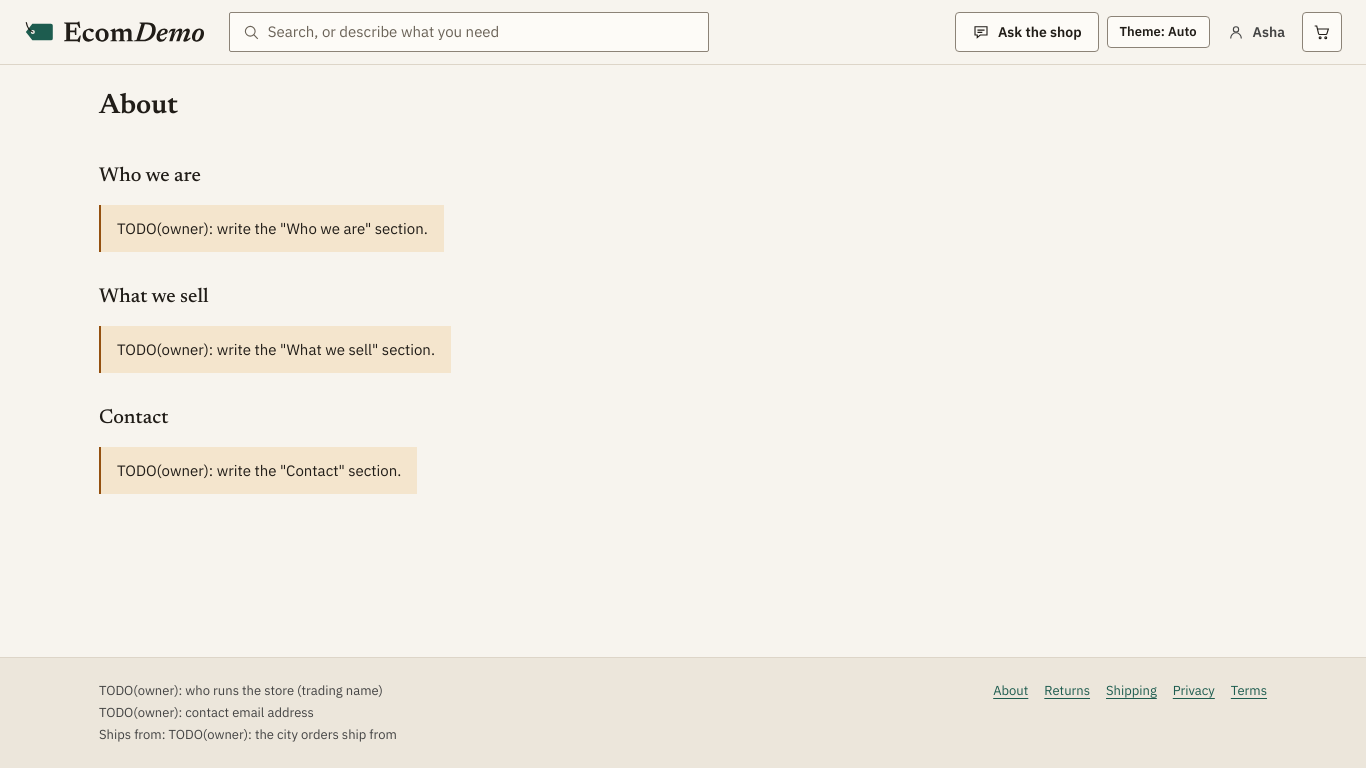
Scenario: the account menu › closes when the button is pressed again
expect the heading "About" is shown: met, box [99,89,178,123]
Click the button with aria-label "Account: Asha": (1256, 32) [1218,12,1294,52]
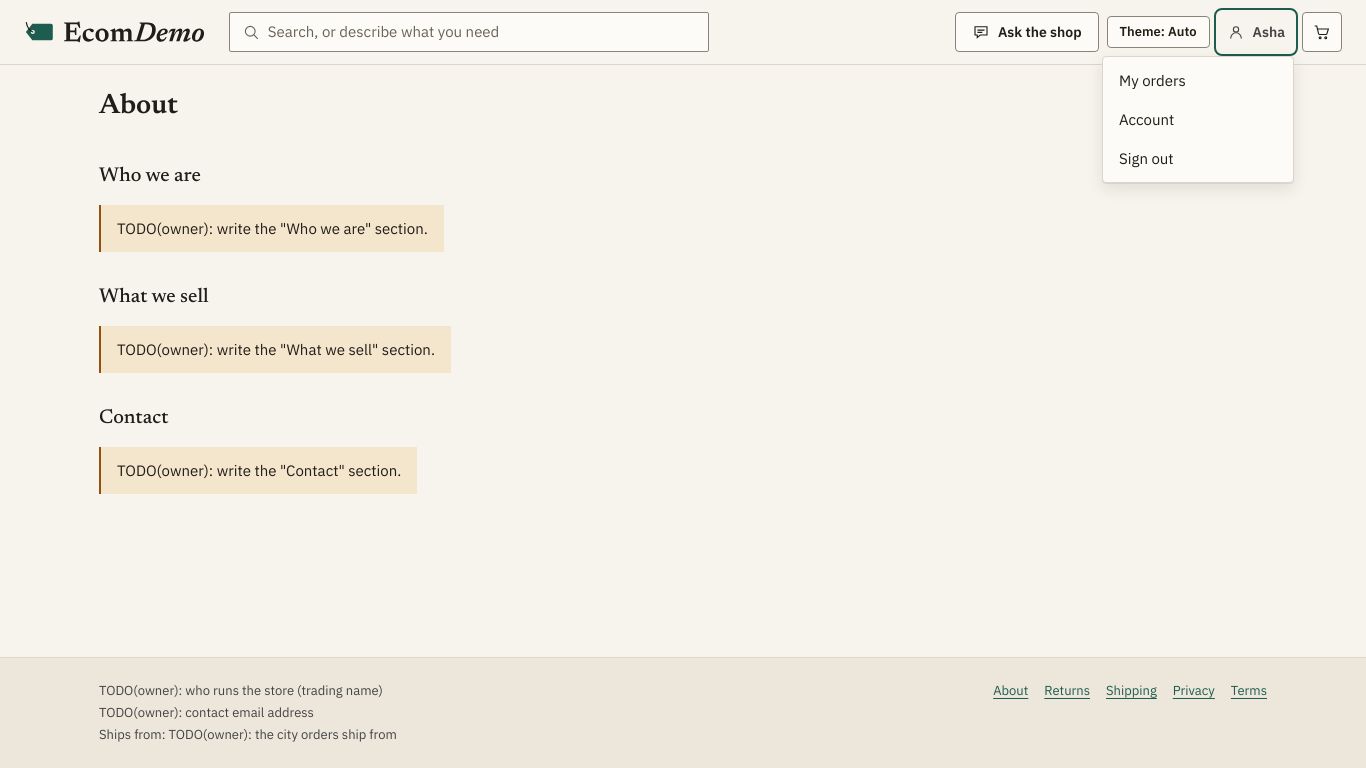
Click the button with aria-label "Account: Asha": (1256, 32) [1218,12,1294,52]
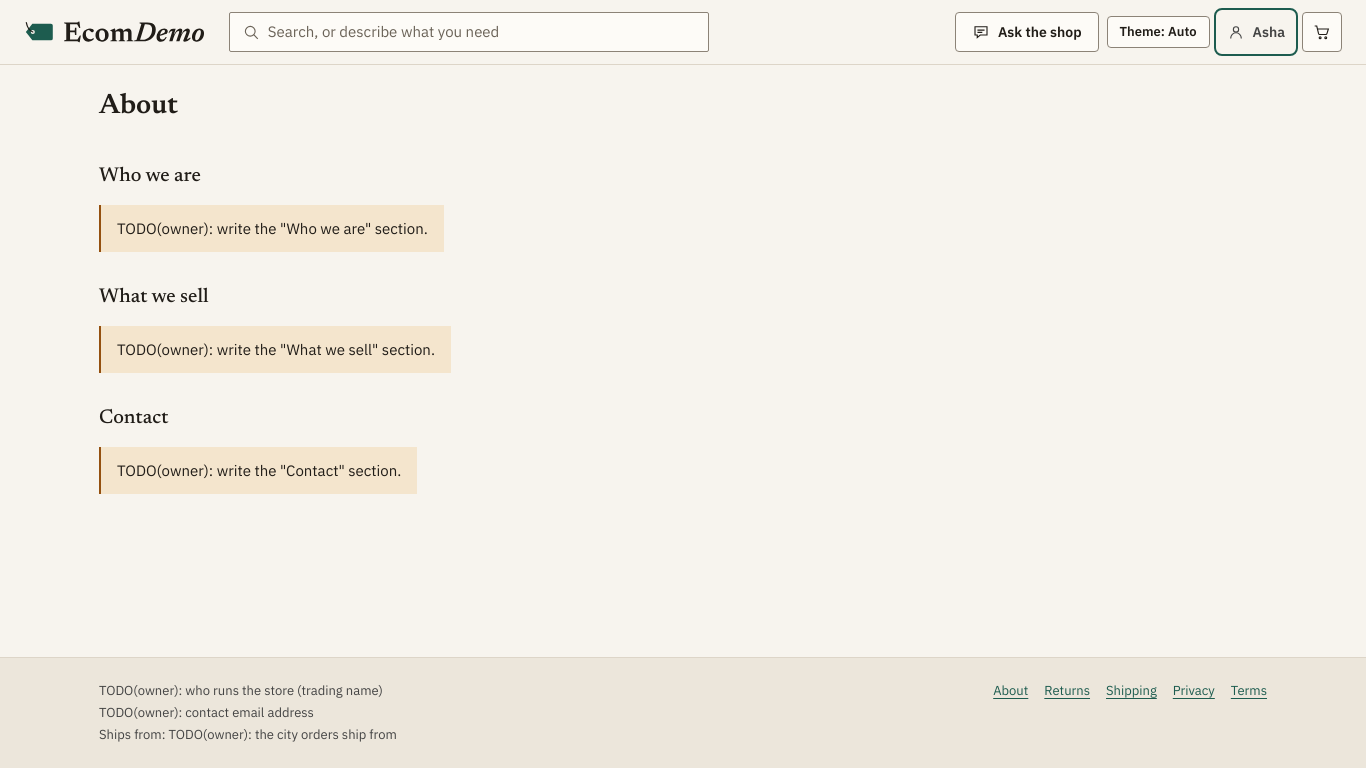
expect the link "My orders" is gone: met
